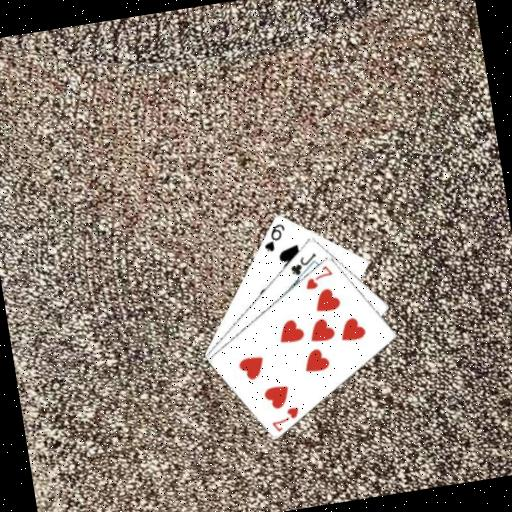6S: (258, 220, 289, 254)
7H: (266, 403, 303, 434), (300, 261, 336, 291)
JC: (285, 249, 320, 278)
